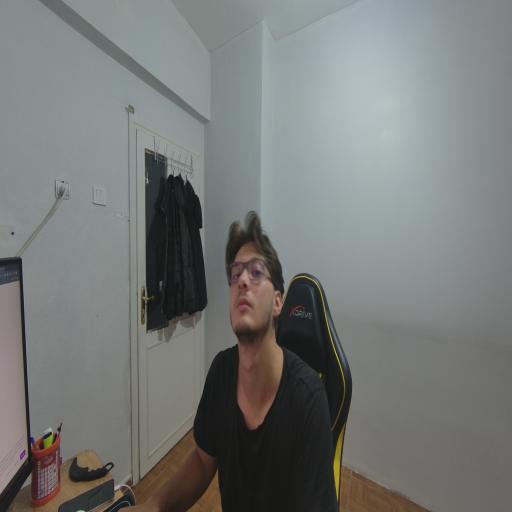cuma-face-v2: (218, 215, 298, 361)
